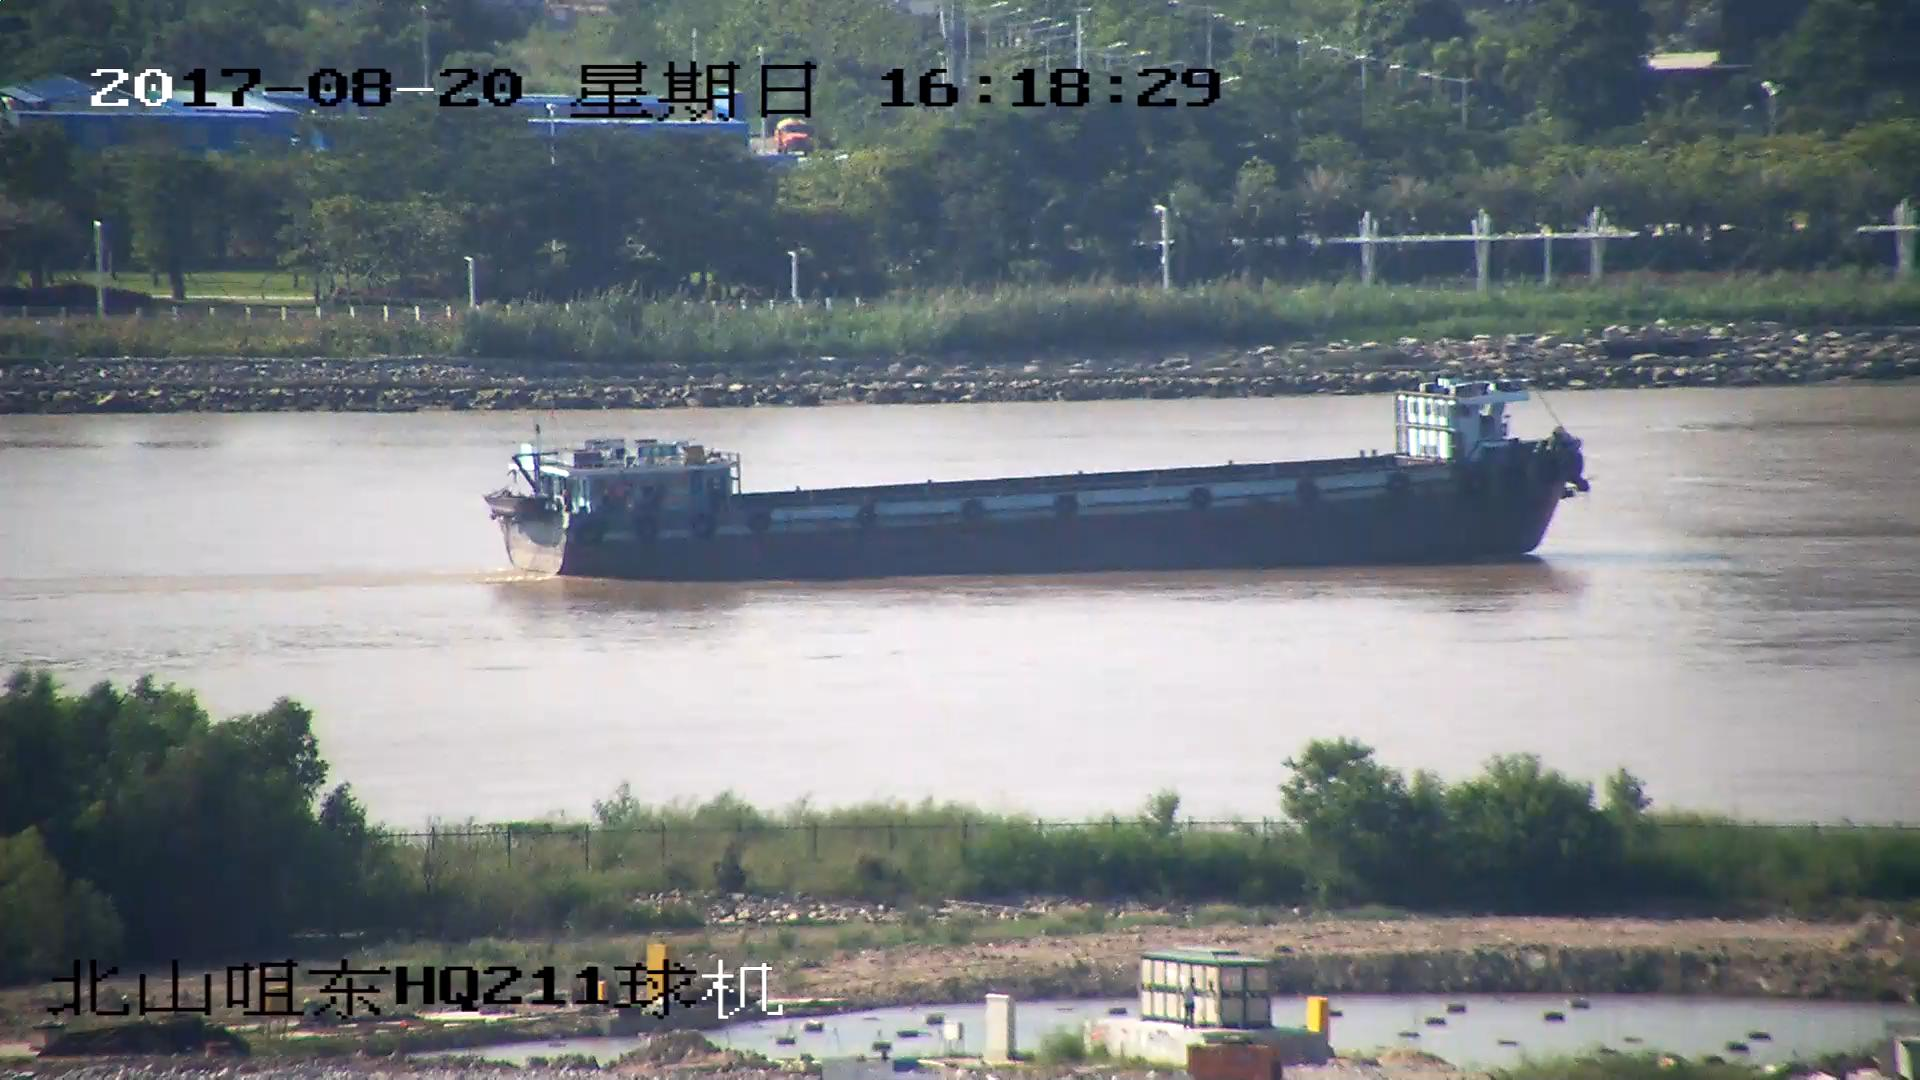general cargo ship: (499, 378, 1583, 576)
